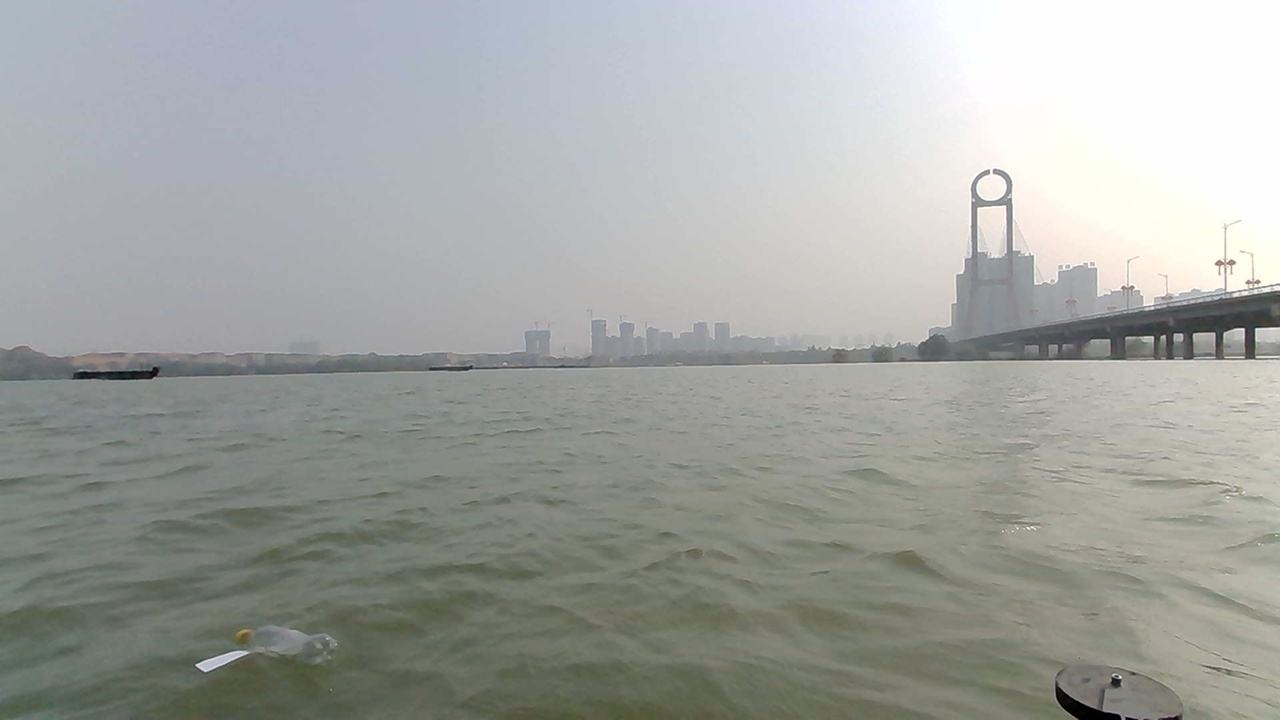bottle: (190, 618, 347, 689)
